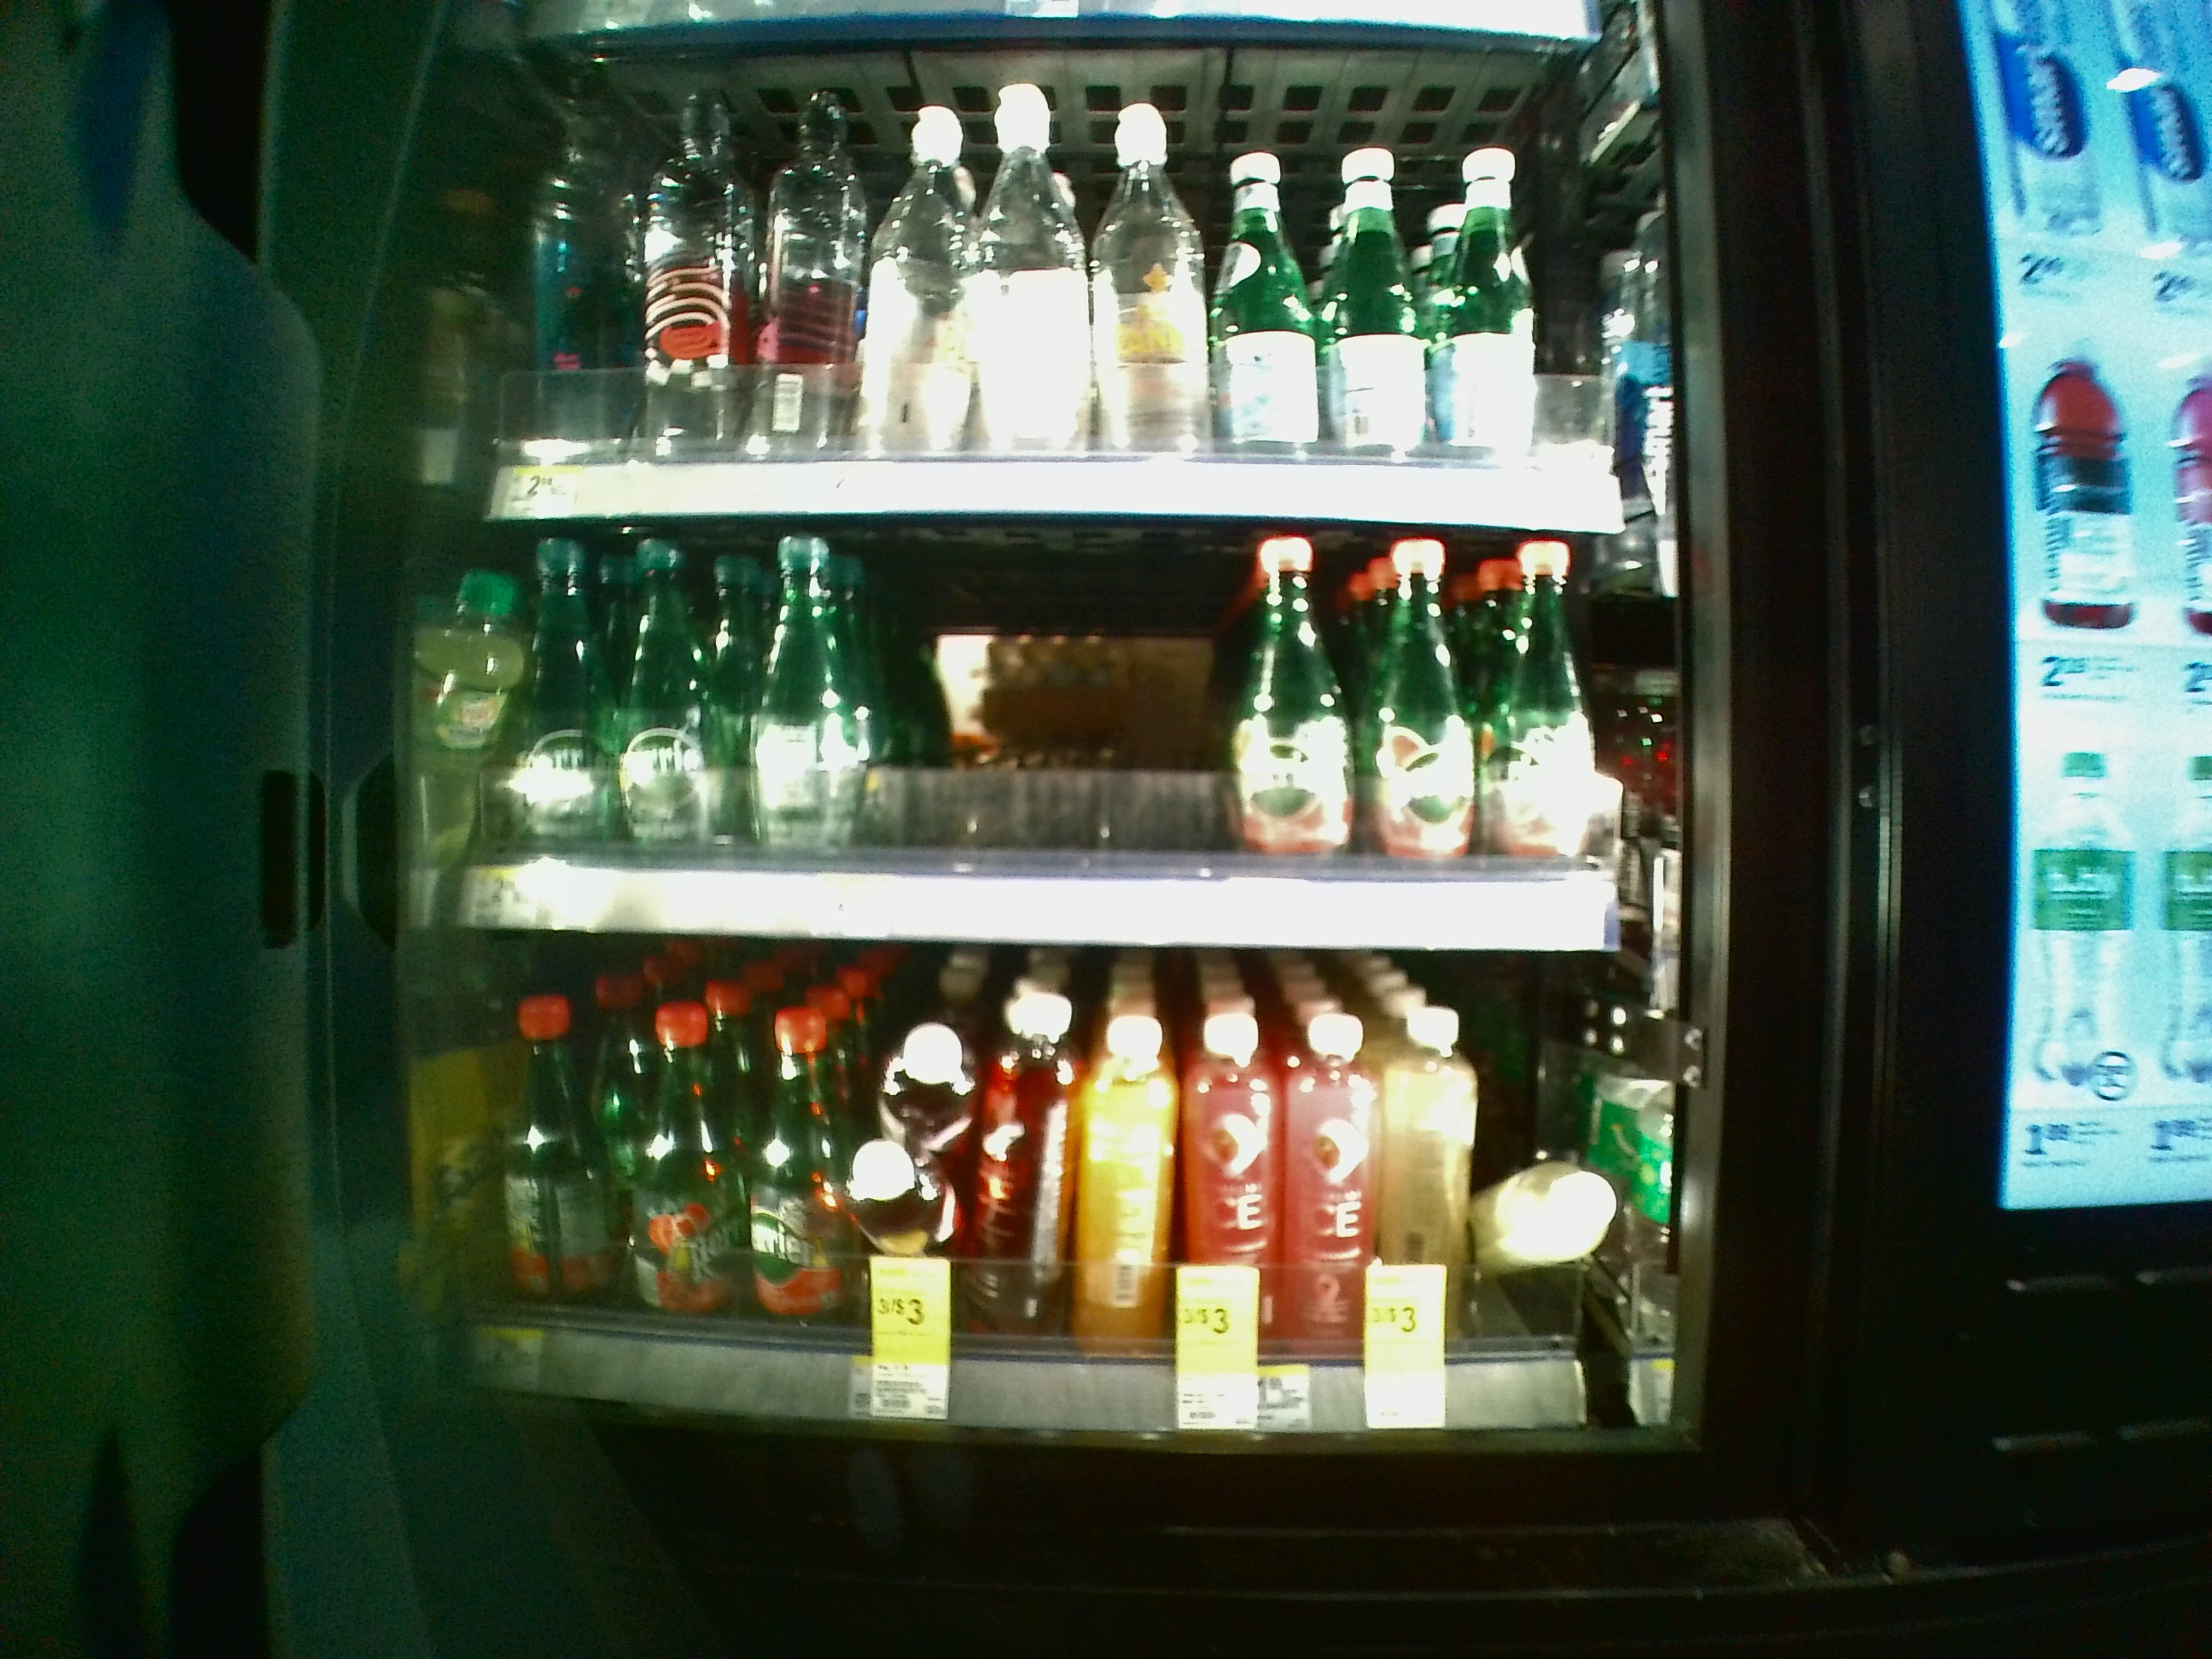Shelf: (439, 948, 1663, 1434), (444, 518, 1658, 948)
